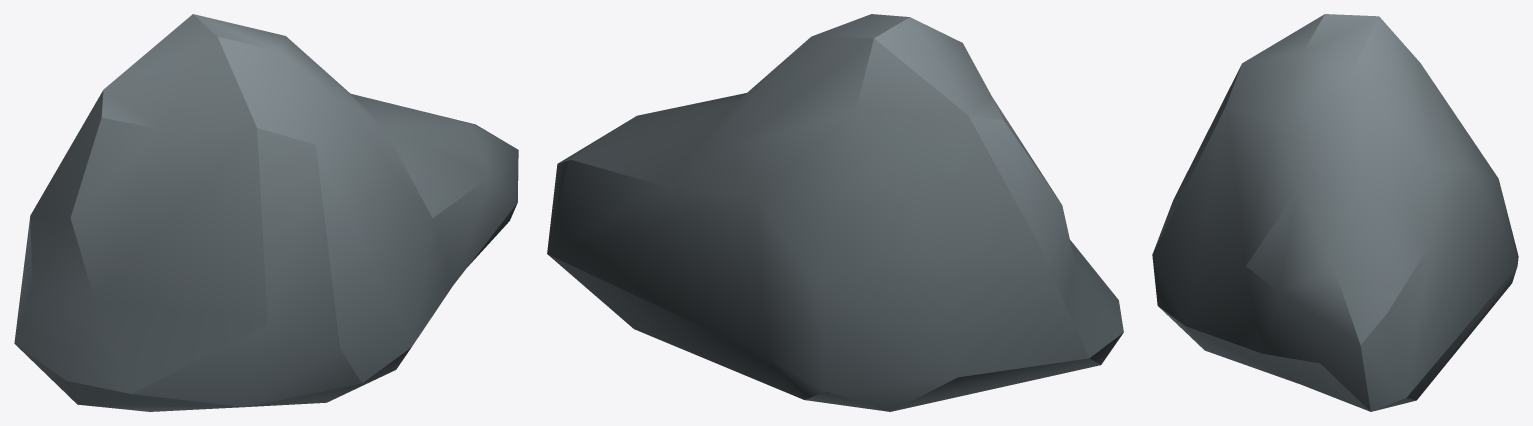
Rendered from rock2.fbx.
The picture shows the model from 3 angles, left to right: view 1: azimuth 30°, elevation 25°; view 2: azimuth 150°, elevation 25°; view 3: azimuth 270°, elevation 25°; orthographic projection. The views are drawn at different scales.
Parts seen in each view (by area): view 1: rock2; view 2: rock2; view 3: rock2.
Boxes of the visible parts, x1,y1,x2,y2 form: rock2: [14, 14, 518, 411]; rock2: [547, 14, 1123, 411]; rock2: [1152, 14, 1518, 411].
Size of the model in its own units: 334 by 212 by 228.
